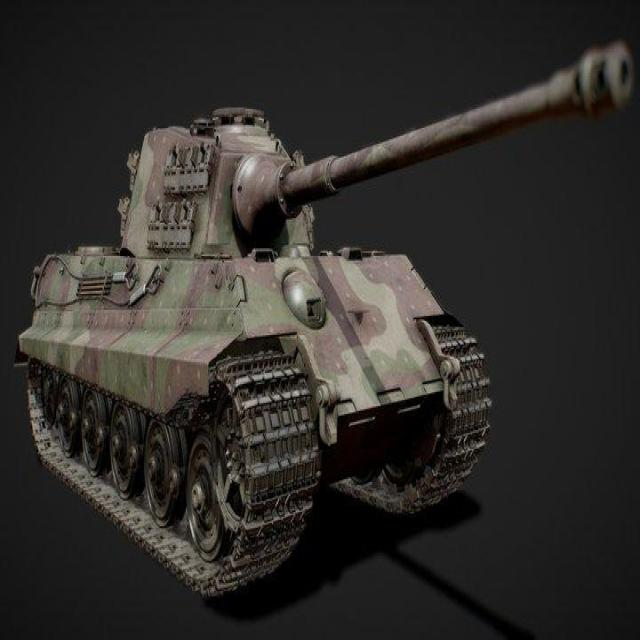Without deffect: (16, 63, 640, 615)
